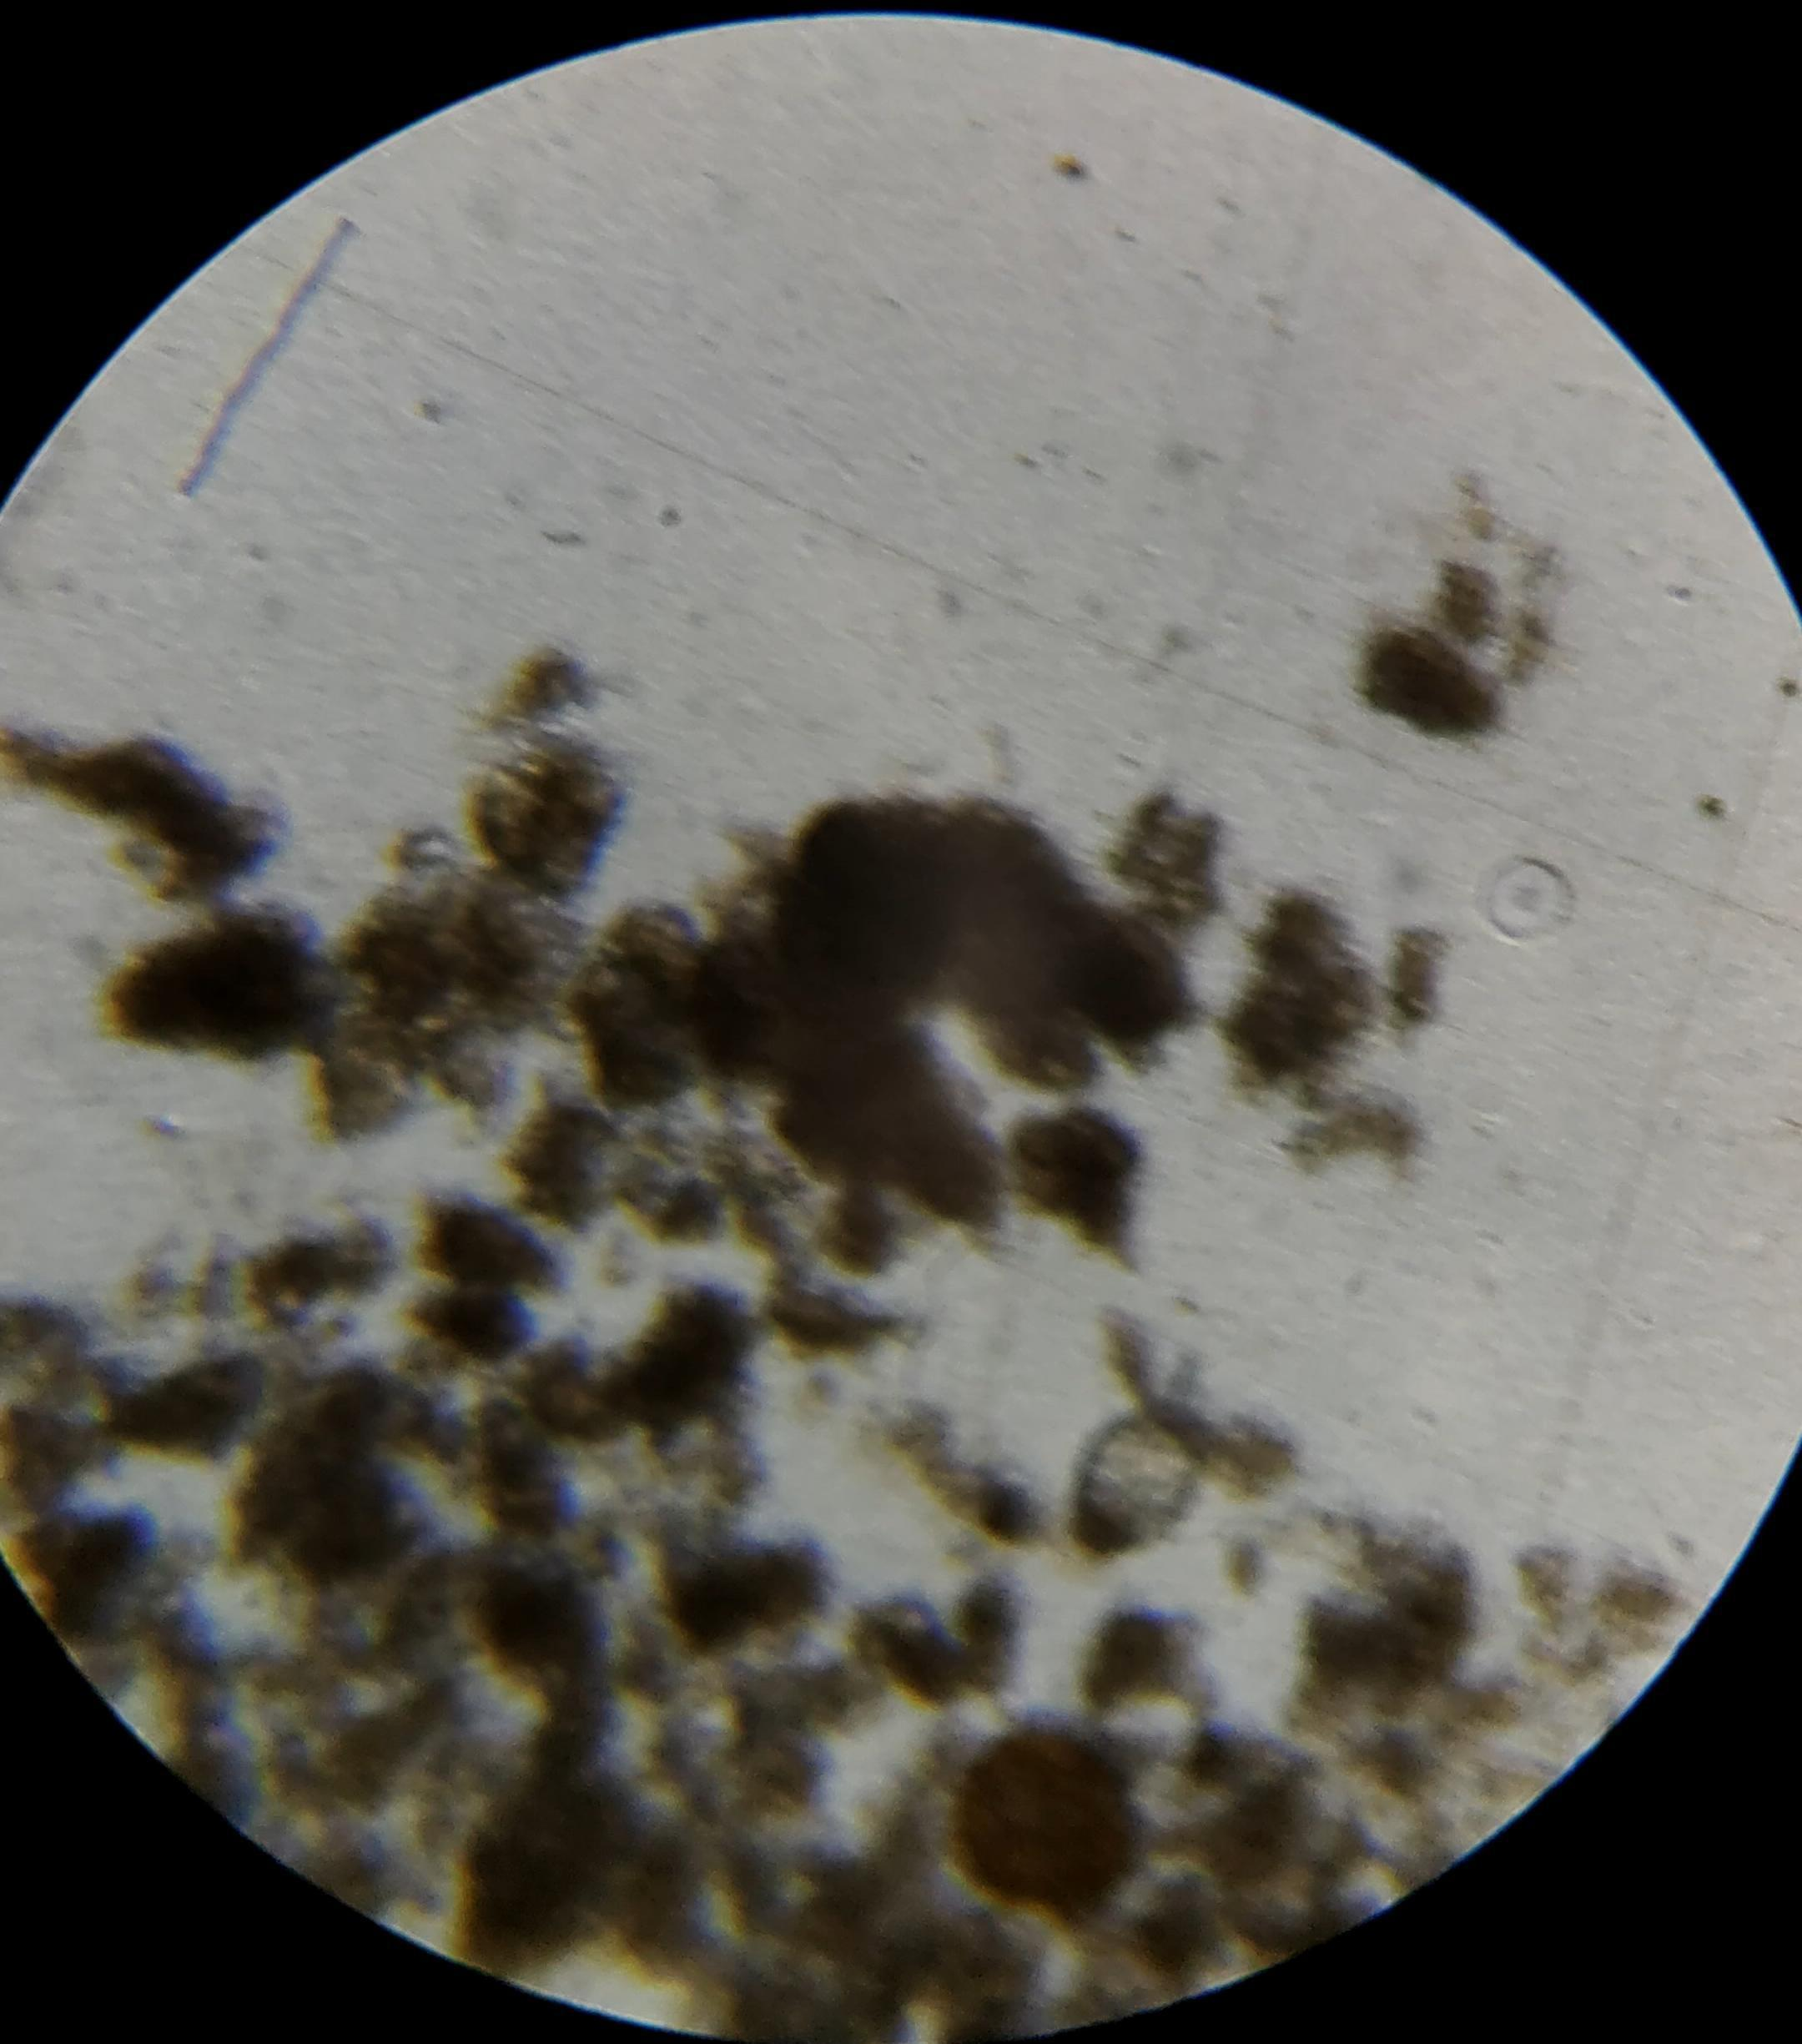Arcella: (965, 1733, 1131, 1901)
Mo: (1077, 1353, 1204, 1550)
